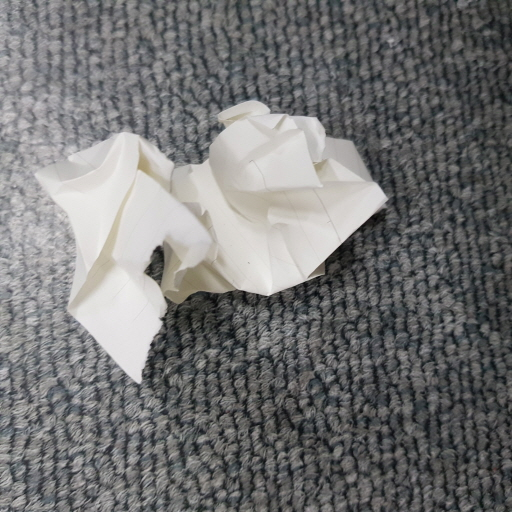Paper_3: (27, 89, 397, 415)
